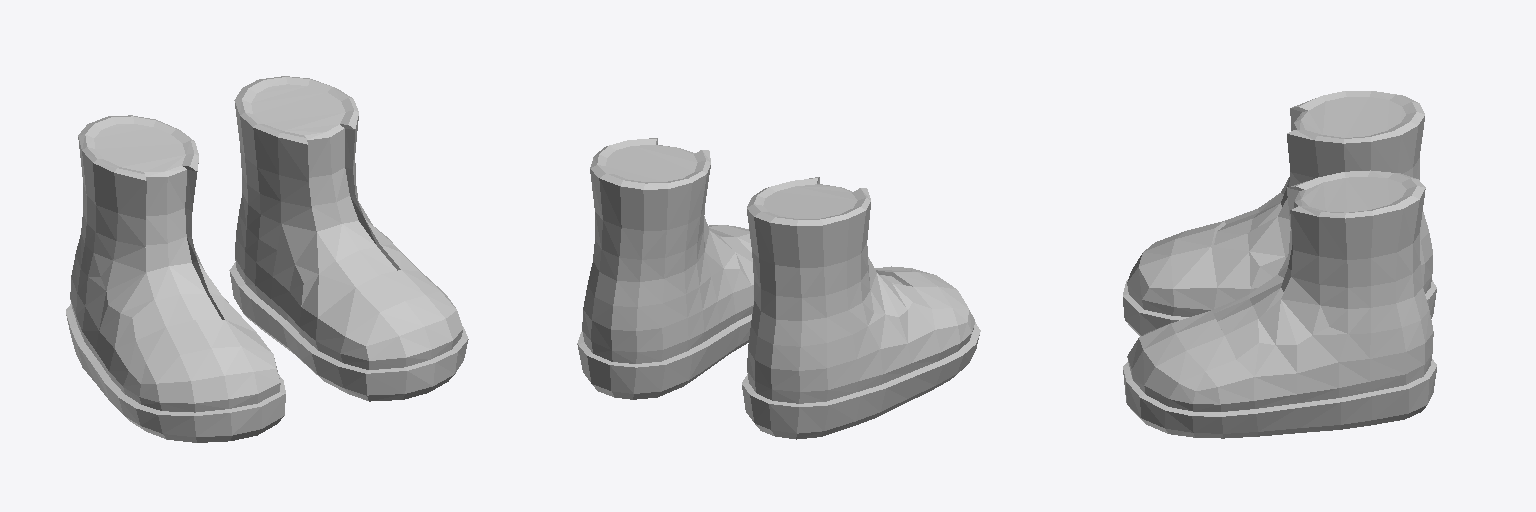
File: shoes02.obj
3 renders of one model, left to right at view 1: azimuth 30°, elevation 25°; view 2: azimuth 150°, elevation 25°; view 3: azimuth 270°, elevation 25°, orthographic.
Parts seen in each view (by area): view 1: polySurface200 boy; view 2: polySurface200 boy; view 3: polySurface200 boy.
Part boxes in pixels (bbox=[...]): polySurface200 boy: bbox=[66, 76, 468, 442]; polySurface200 boy: bbox=[577, 138, 980, 439]; polySurface200 boy: bbox=[1123, 91, 1436, 438].
Size of the model in its own units: 0.181 by 0.1114 by 0.1481.